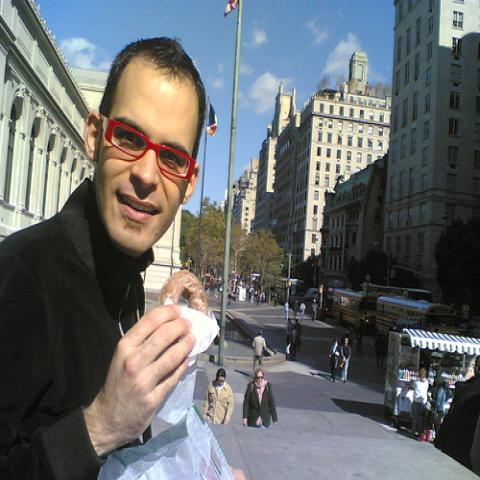bus: (376, 296, 456, 338), (331, 289, 382, 334)
